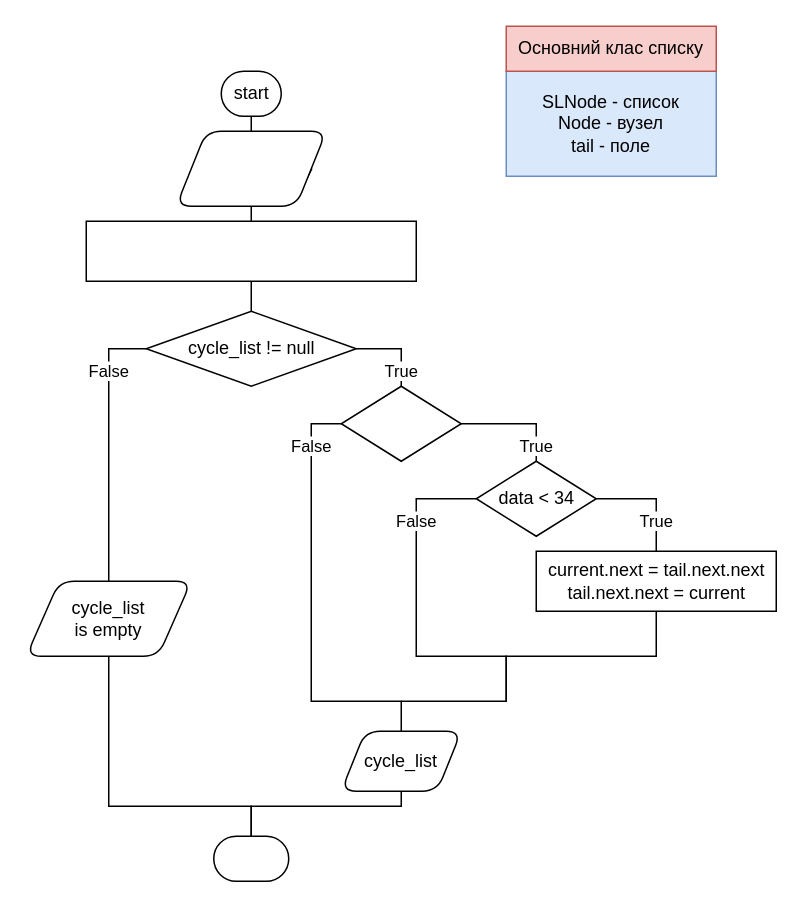
Some shapes in this 803 by 908 pixel diagram are drawn without their labels. Here are the shapes that lost their labels. From the top down, the centre of each, then its label:
(x=250, y=168): Node tail data Є Z
(x=250, y=250): SLNode cycle_list = new SLNode() Node current = new Node (data)
(x=400, y=423): data > -21
(x=250, y=858): end
